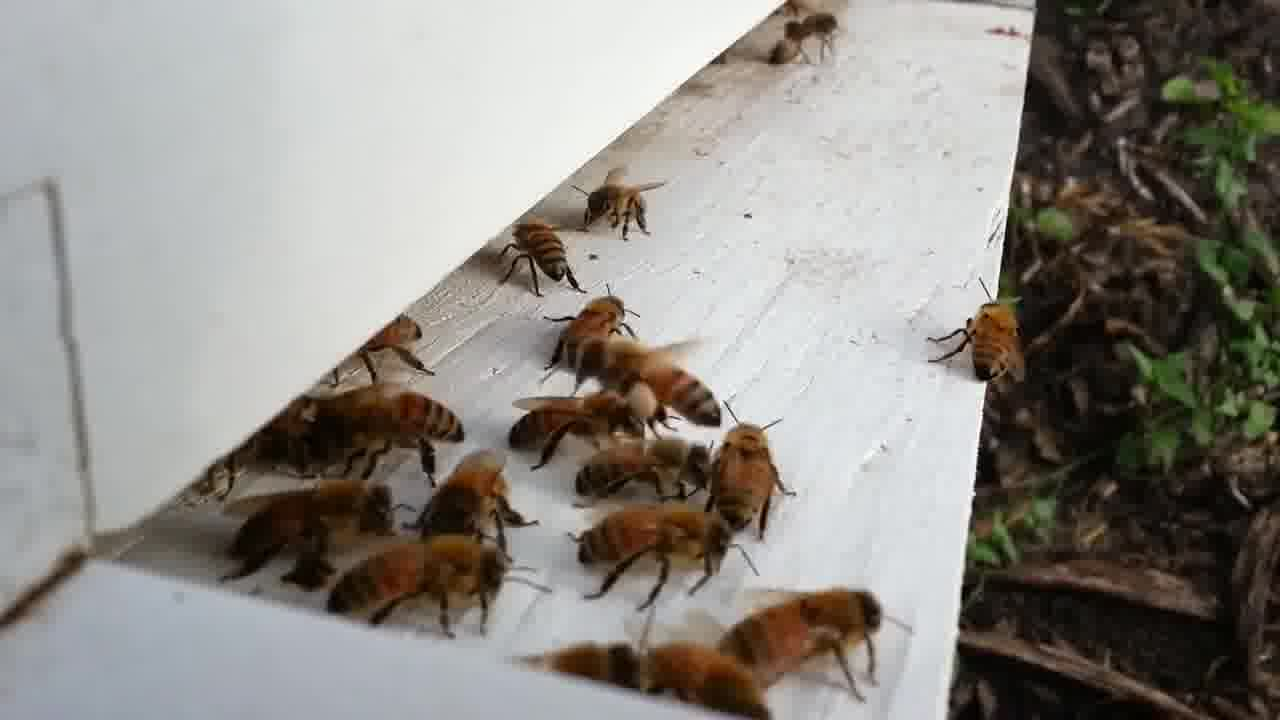pollen: (578, 339, 729, 436)
